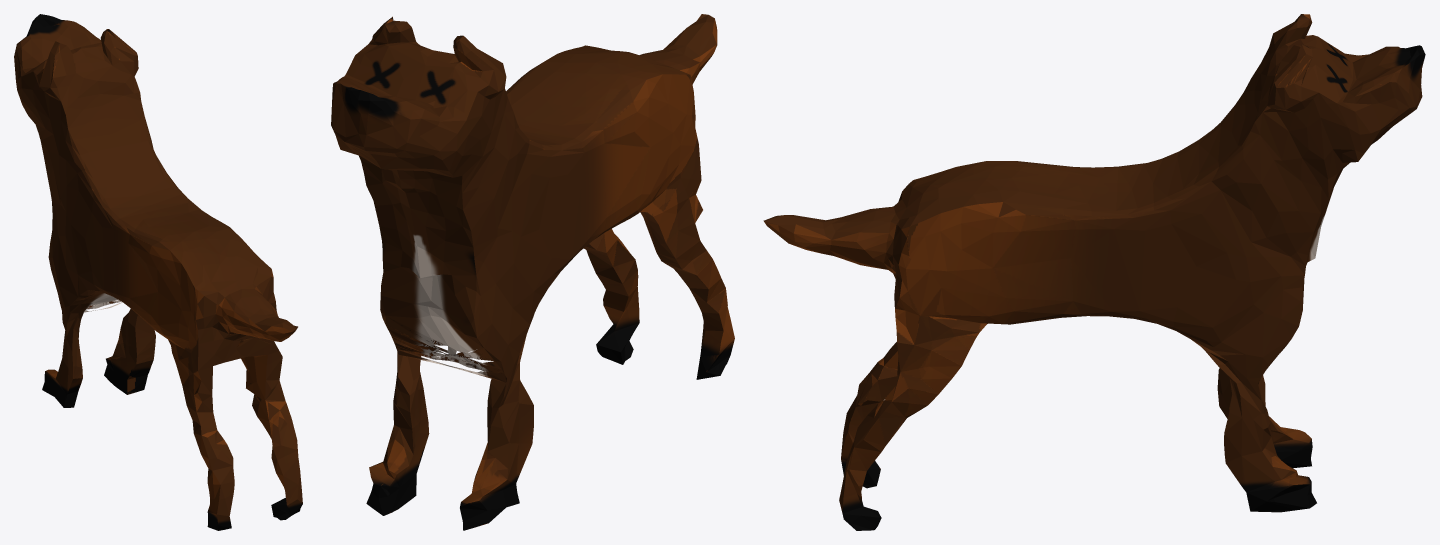
The model's file is dog.fbx.
The picture shows the model from 3 angles, left to right: view 1: azimuth 30°, elevation 25°; view 2: azimuth 150°, elevation 25°; view 3: azimuth 270°, elevation 25°; orthographic projection. The views are drawn at different scales.
Parts seen in each view (by area): view 1: Plane.001; view 2: Plane.001; view 3: Plane.001.
Part boxes in pixels (bbox=[...]): Plane.001: bbox=[14, 14, 302, 530]; Plane.001: bbox=[331, 14, 734, 530]; Plane.001: bbox=[763, 14, 1425, 530].
Size of the model in its own units: 474 by 1763 by 2200.
1 material, 1 textured.
